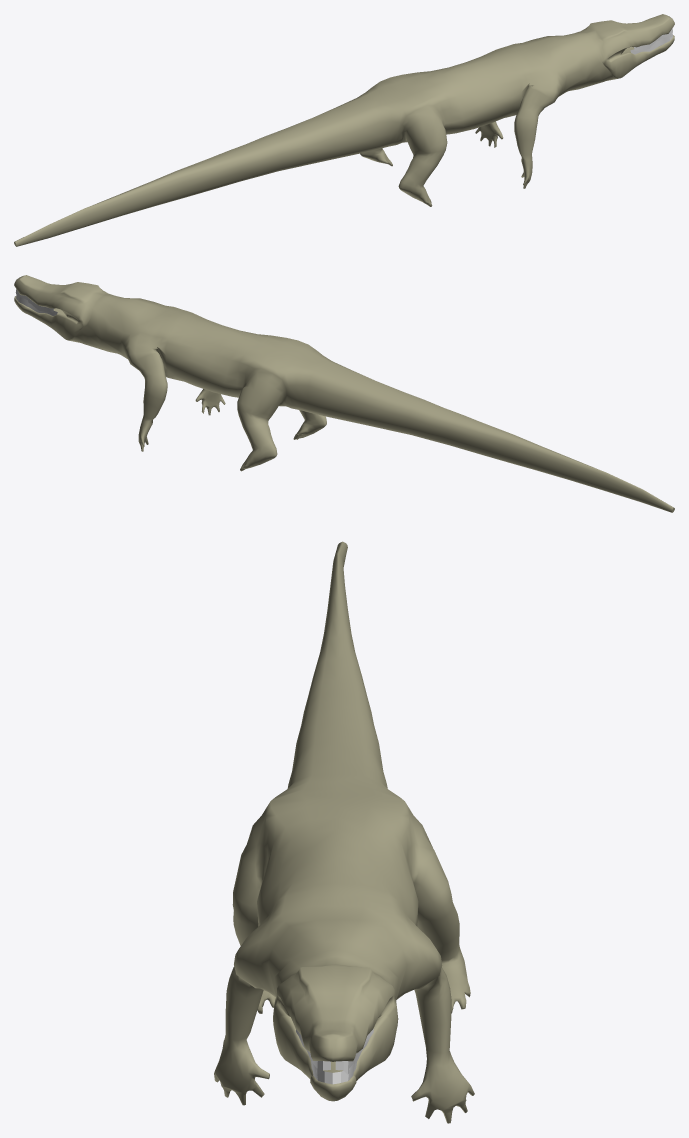
Rendered from Crocodile.fbx.
3 renders of one model, top to bottom at view 1: azimuth 30°, elevation 25°; view 2: azimuth 150°, elevation 25°; view 3: azimuth 270°, elevation 25°, orthographic. The views are drawn at different scales.
Visible parts, largest first — view 1: CrocodileStatic:Croc_geo; view 2: CrocodileStatic:Croc_geo; view 3: CrocodileStatic:Croc_geo.
Boxes of the visible parts, x1,y1,x2,y2 form: CrocodileStatic:Croc_geo: (14, 14, 674, 246); CrocodileStatic:Croc_geo: (14, 275, 674, 512); CrocodileStatic:Croc_geo: (214, 541, 474, 1123).
Bounding box in the file's own units: 12.87 × 2.22 × 2.21.
